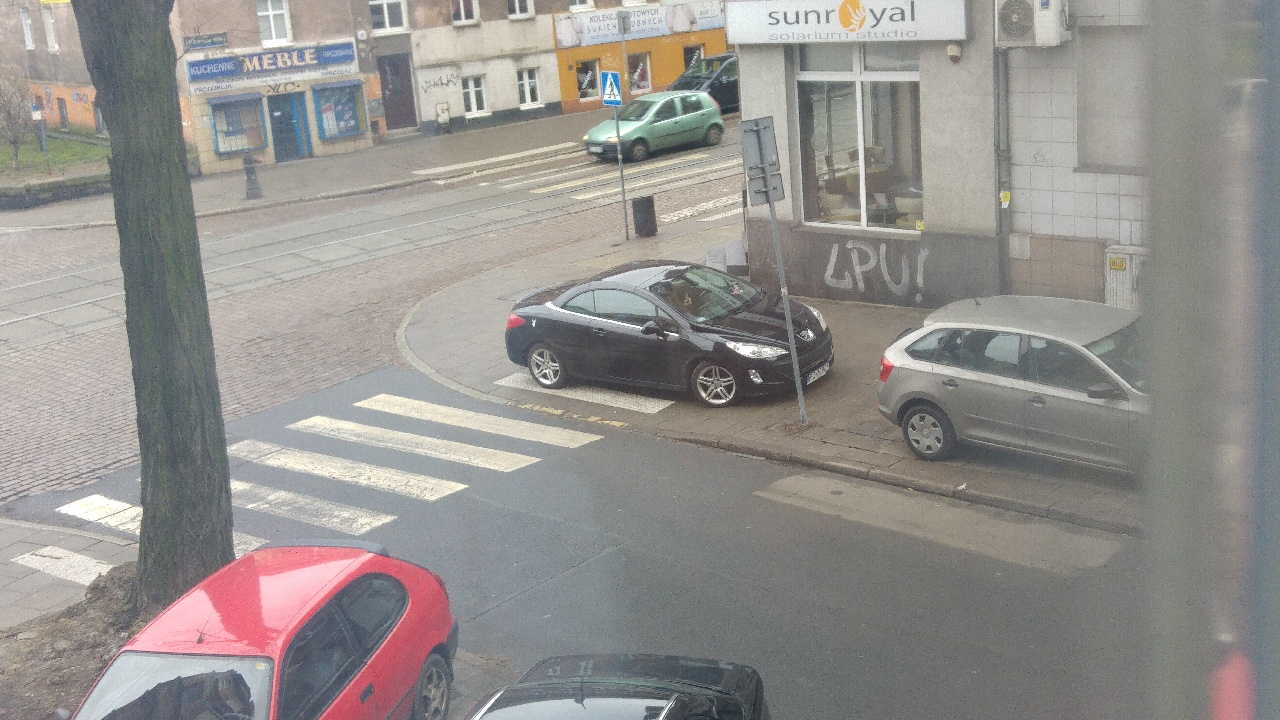D6: (600, 71, 622, 106)
